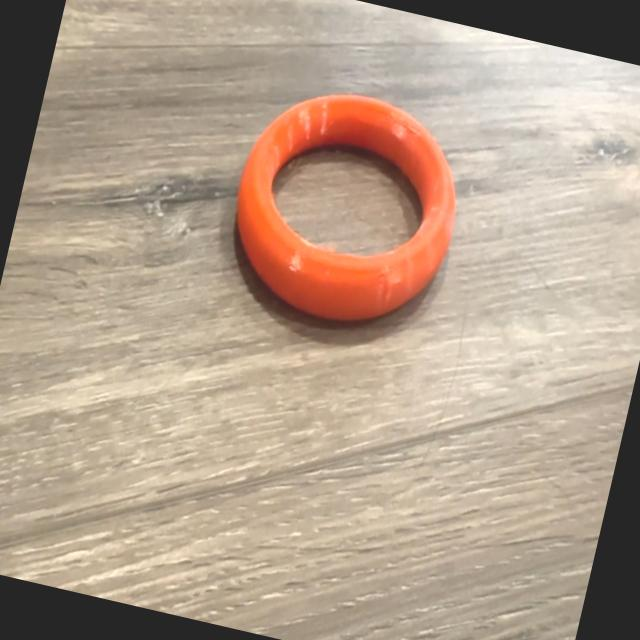note: (212, 70, 478, 350)
